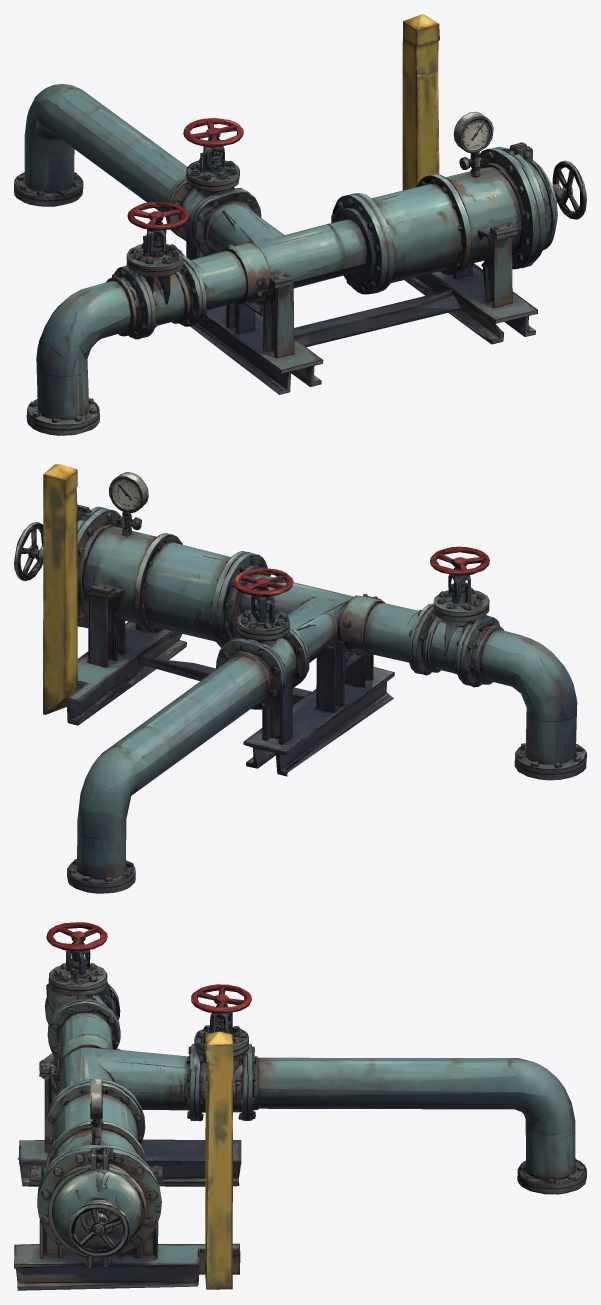
File: gathering.glb
The picture shows the model from 3 angles, top to bottom: view 1: azimuth 30°, elevation 25°; view 2: azimuth 150°, elevation 25°; view 3: azimuth 270°, elevation 25°; orthographic projection.
Bounding box in the file's own units: 1.9 × 0.8287 × 1.7.
1 material, 1 textured.
